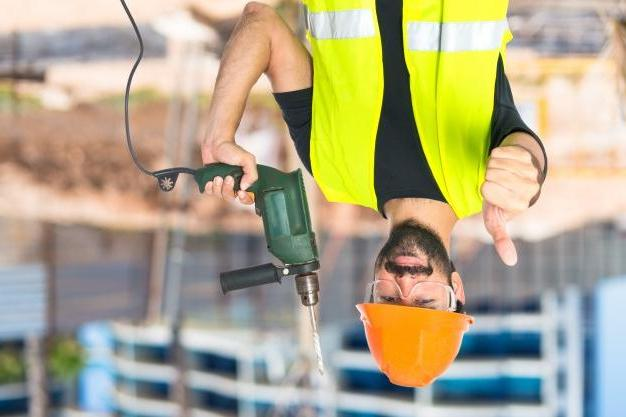thumbsdown: (480, 145, 540, 266)
